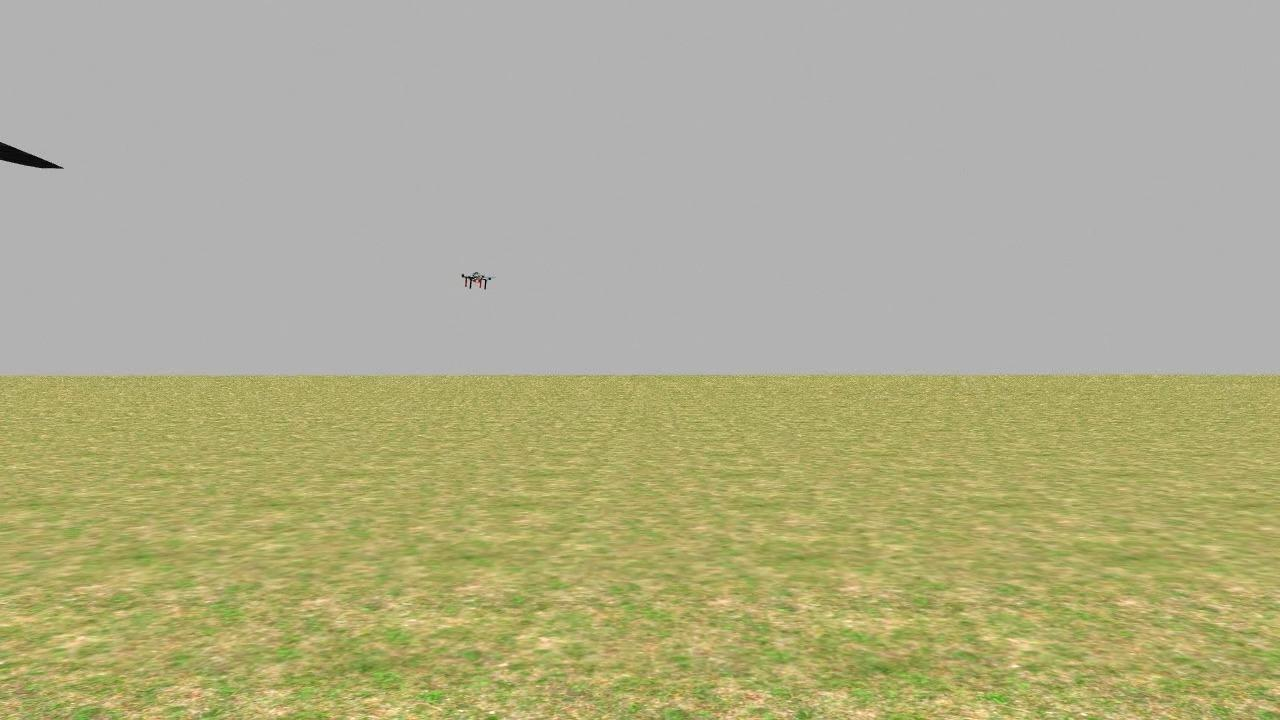UAV: (453, 261, 497, 299)
